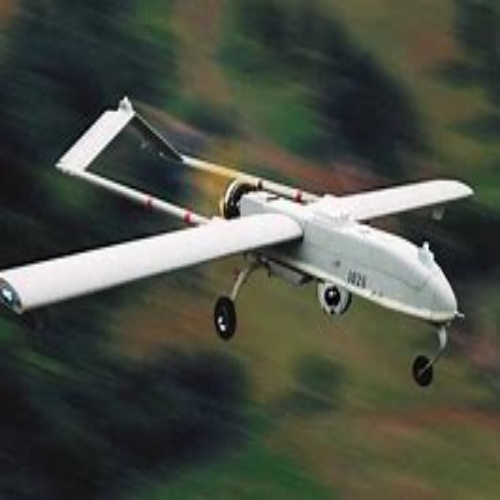uav4: (2, 99, 477, 387)
